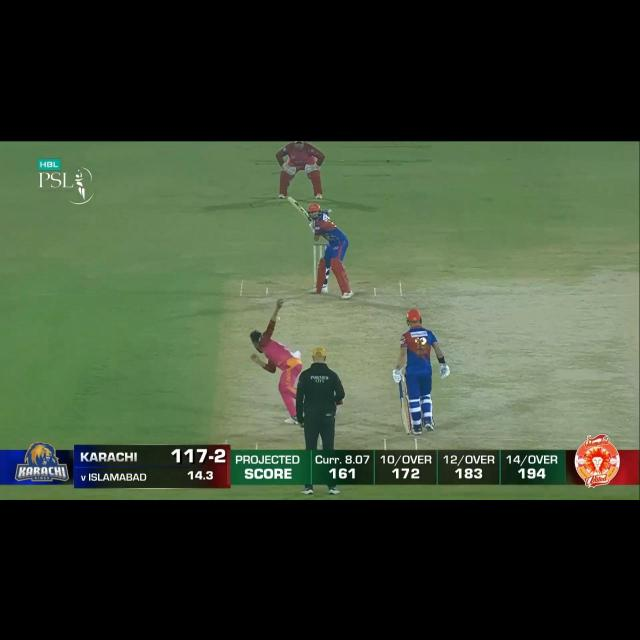bat: (396, 398, 416, 438), (285, 197, 313, 224)
toe: (402, 422, 413, 435), (286, 197, 296, 207)
